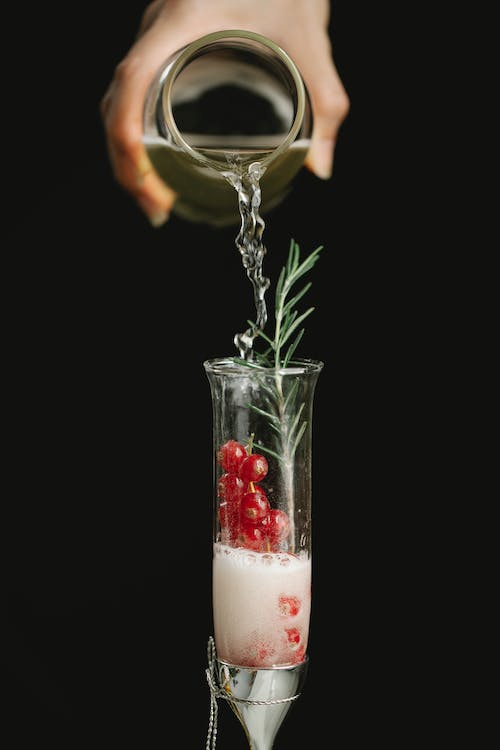alcohol: (197, 352, 329, 750), (137, 26, 315, 230)
